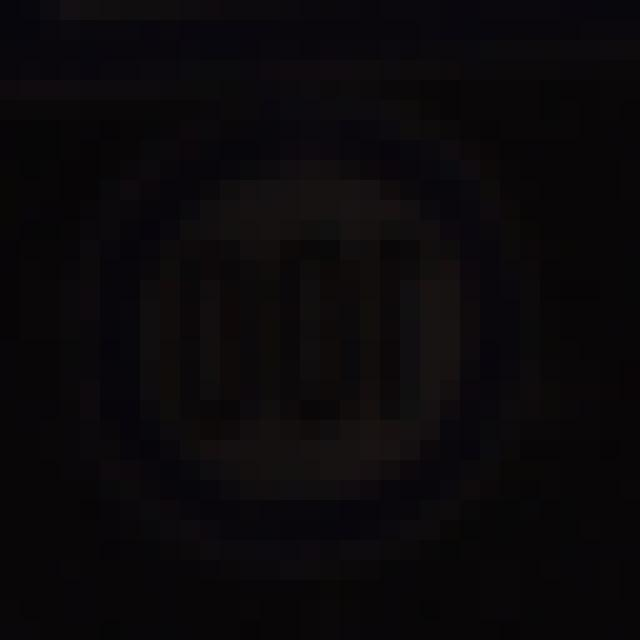SPEED LIMIT 100: (87, 113, 527, 552)
